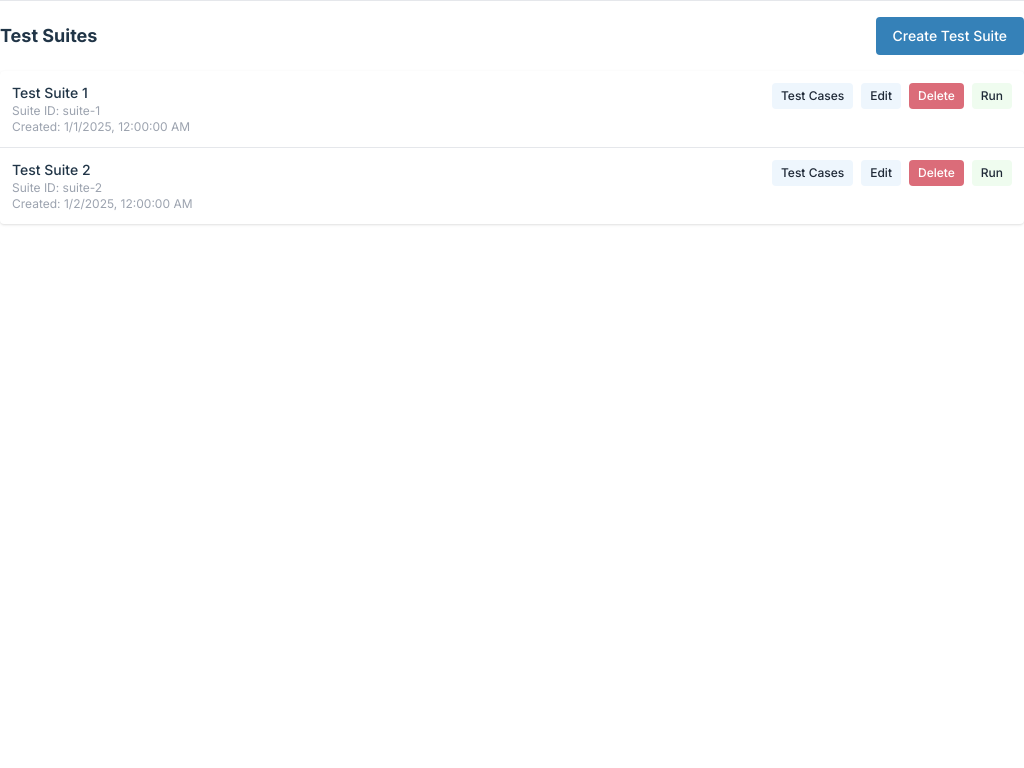
Test: TestSuitePanel › deletes test suite after confirmation
expect the text "Test Suite 1" is shown: met, box [12, 84, 88, 101]
expect the text "Test Suite 2" is shown: met, box [12, 161, 90, 178]
Click delete button for first test suite
Click the button "Delete" in the row of "Test Suite 1".
click(936, 96)  # box [909, 83, 964, 109]
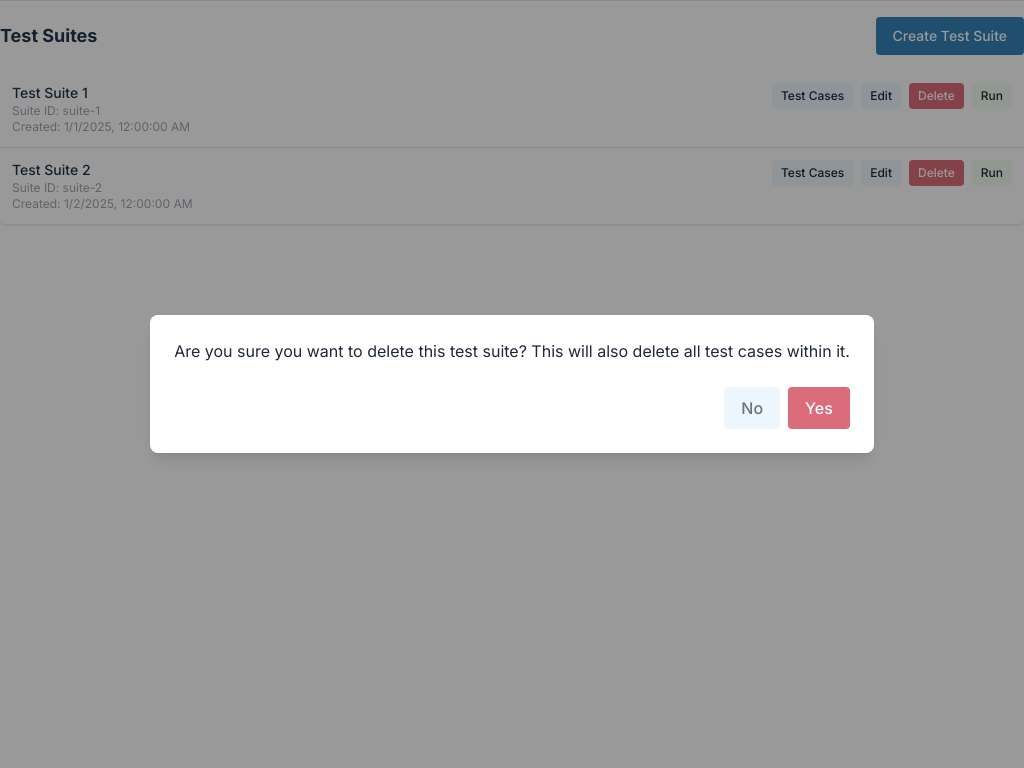
expect the text "Are you sure you want to delete this test suite? This will also delete all test cases within it." is shown: met, box [174, 341, 850, 361]
Click the button with test id "confirm-yes".
click(819, 408)  # box [788, 387, 850, 429]
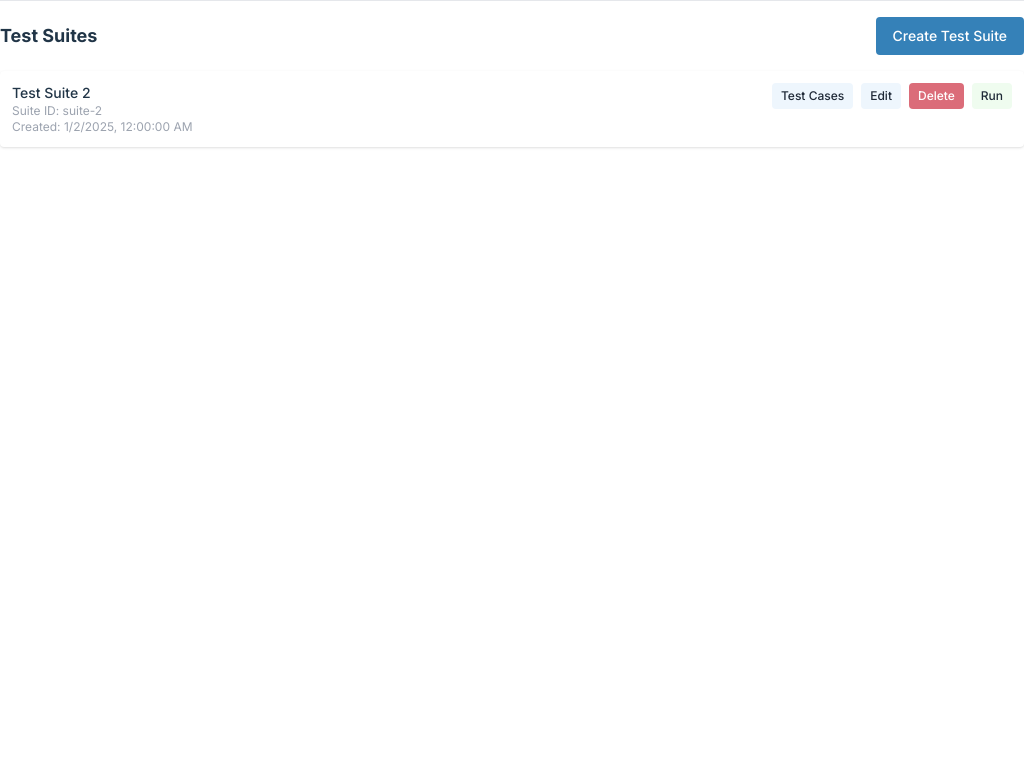
expect the text "Test Suite 2" is shown: met, box [12, 84, 90, 101]
expect the text "Test Suite 1" is gone: met
